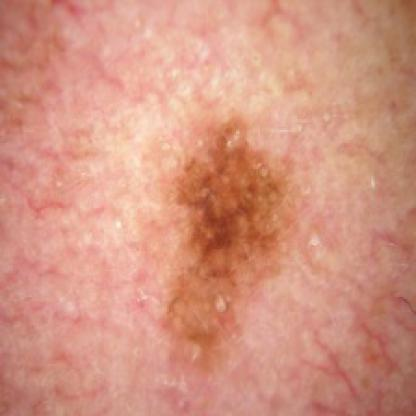malignant: (154, 110, 299, 364)
